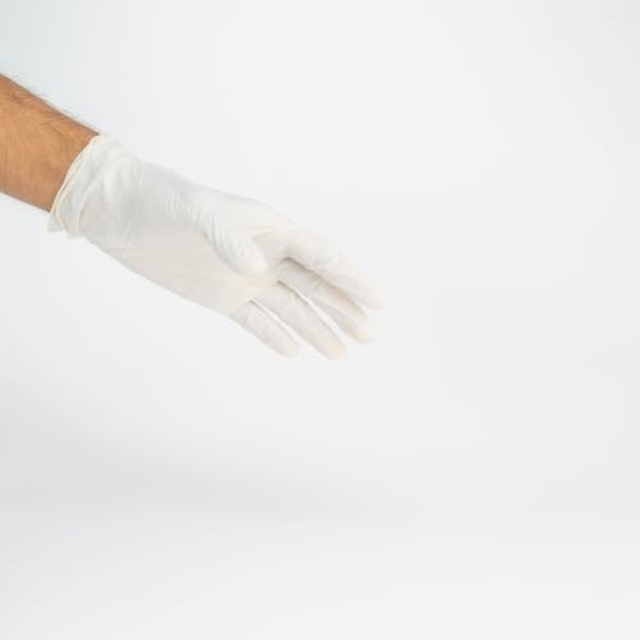Guantes: (46, 133, 392, 364)
